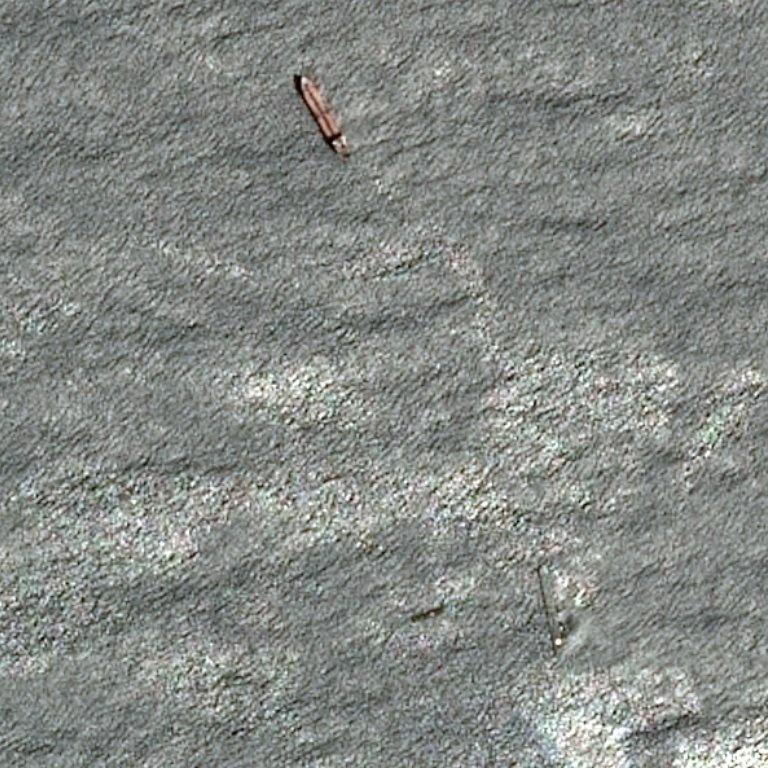ship: (409, 607, 444, 623), (529, 604, 555, 610), (286, 38, 339, 40), (539, 568, 546, 573), (300, 76, 305, 82), (336, 150, 341, 153), (343, 144, 346, 148), (440, 609, 443, 613), (543, 642, 546, 645), (552, 621, 556, 622), (388, 618, 390, 618), (413, 621, 414, 621)
